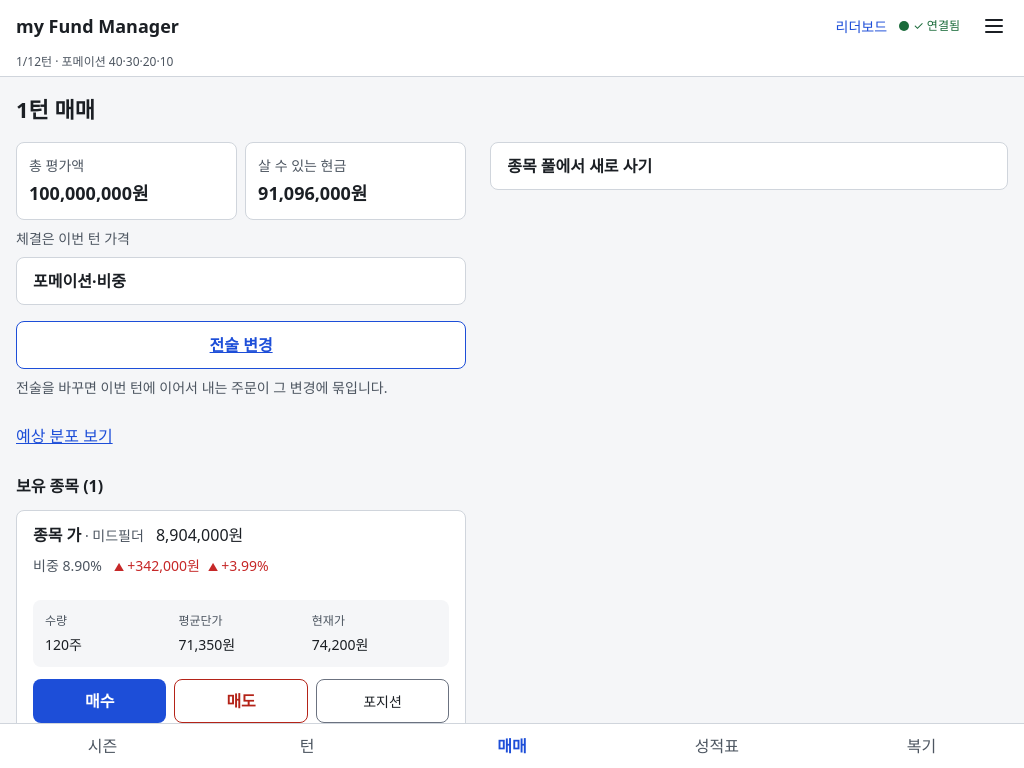
Test: PositionSheet › says the position was already that one when nothing changed
Click the button with aria-label "종목 가 포지션 변경" at {"x": 382, "y": 701}, box [316,679,449,723]
(page scrolled)
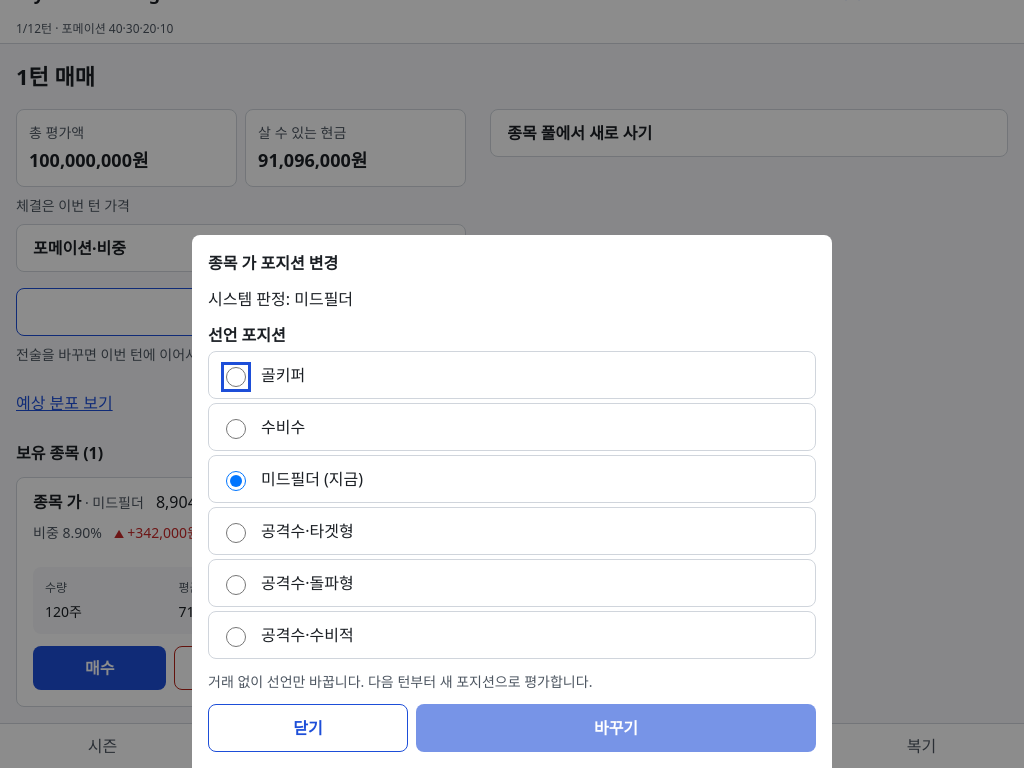
Click the radio button labelled "수비수" at {"x": 236, "y": 428}, box [226,418,246,438]
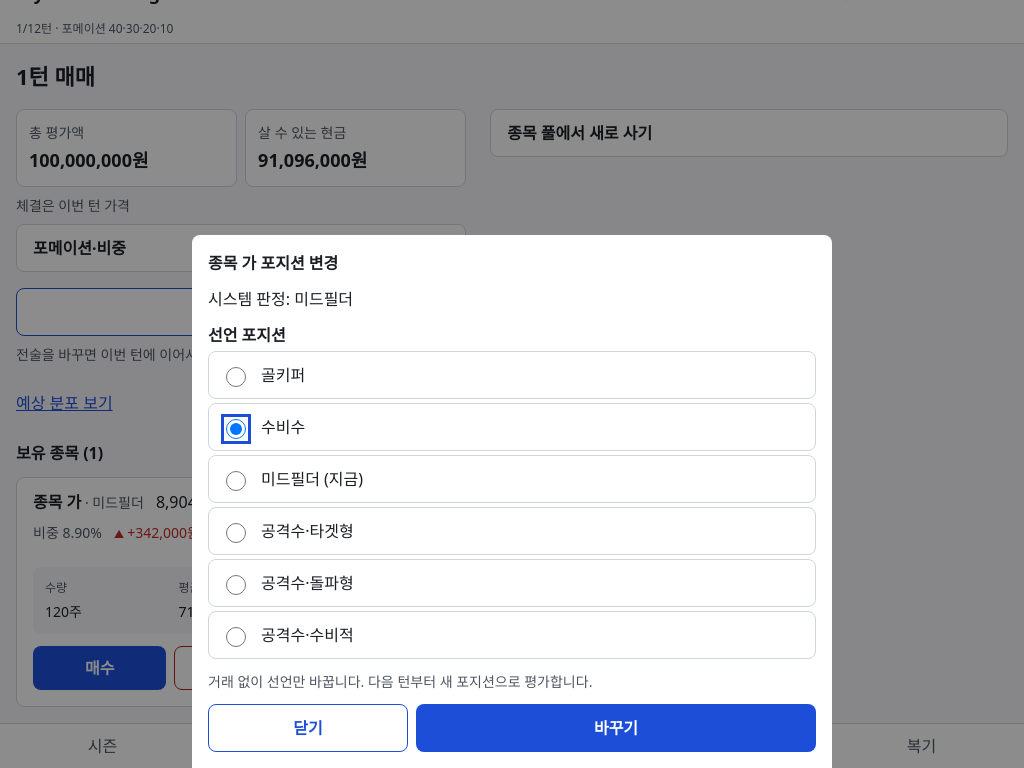
Click the button "바꾸기" at {"x": 616, "y": 728}, box [416,704,816,752]
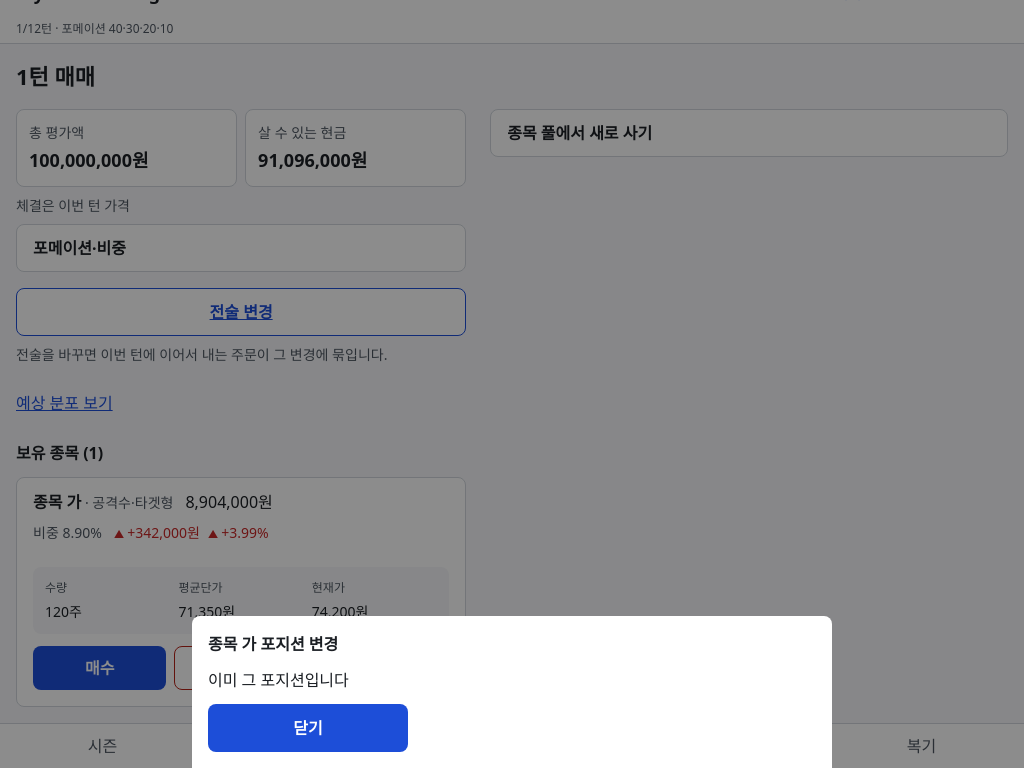
Expected: the dialog "종목 가 포지션 변경" does not show "선언 포지션: 수비수.", [192,616,832,767]
Expected: the message reads "이미 그 포지션입니다", [208,669,349,691]
